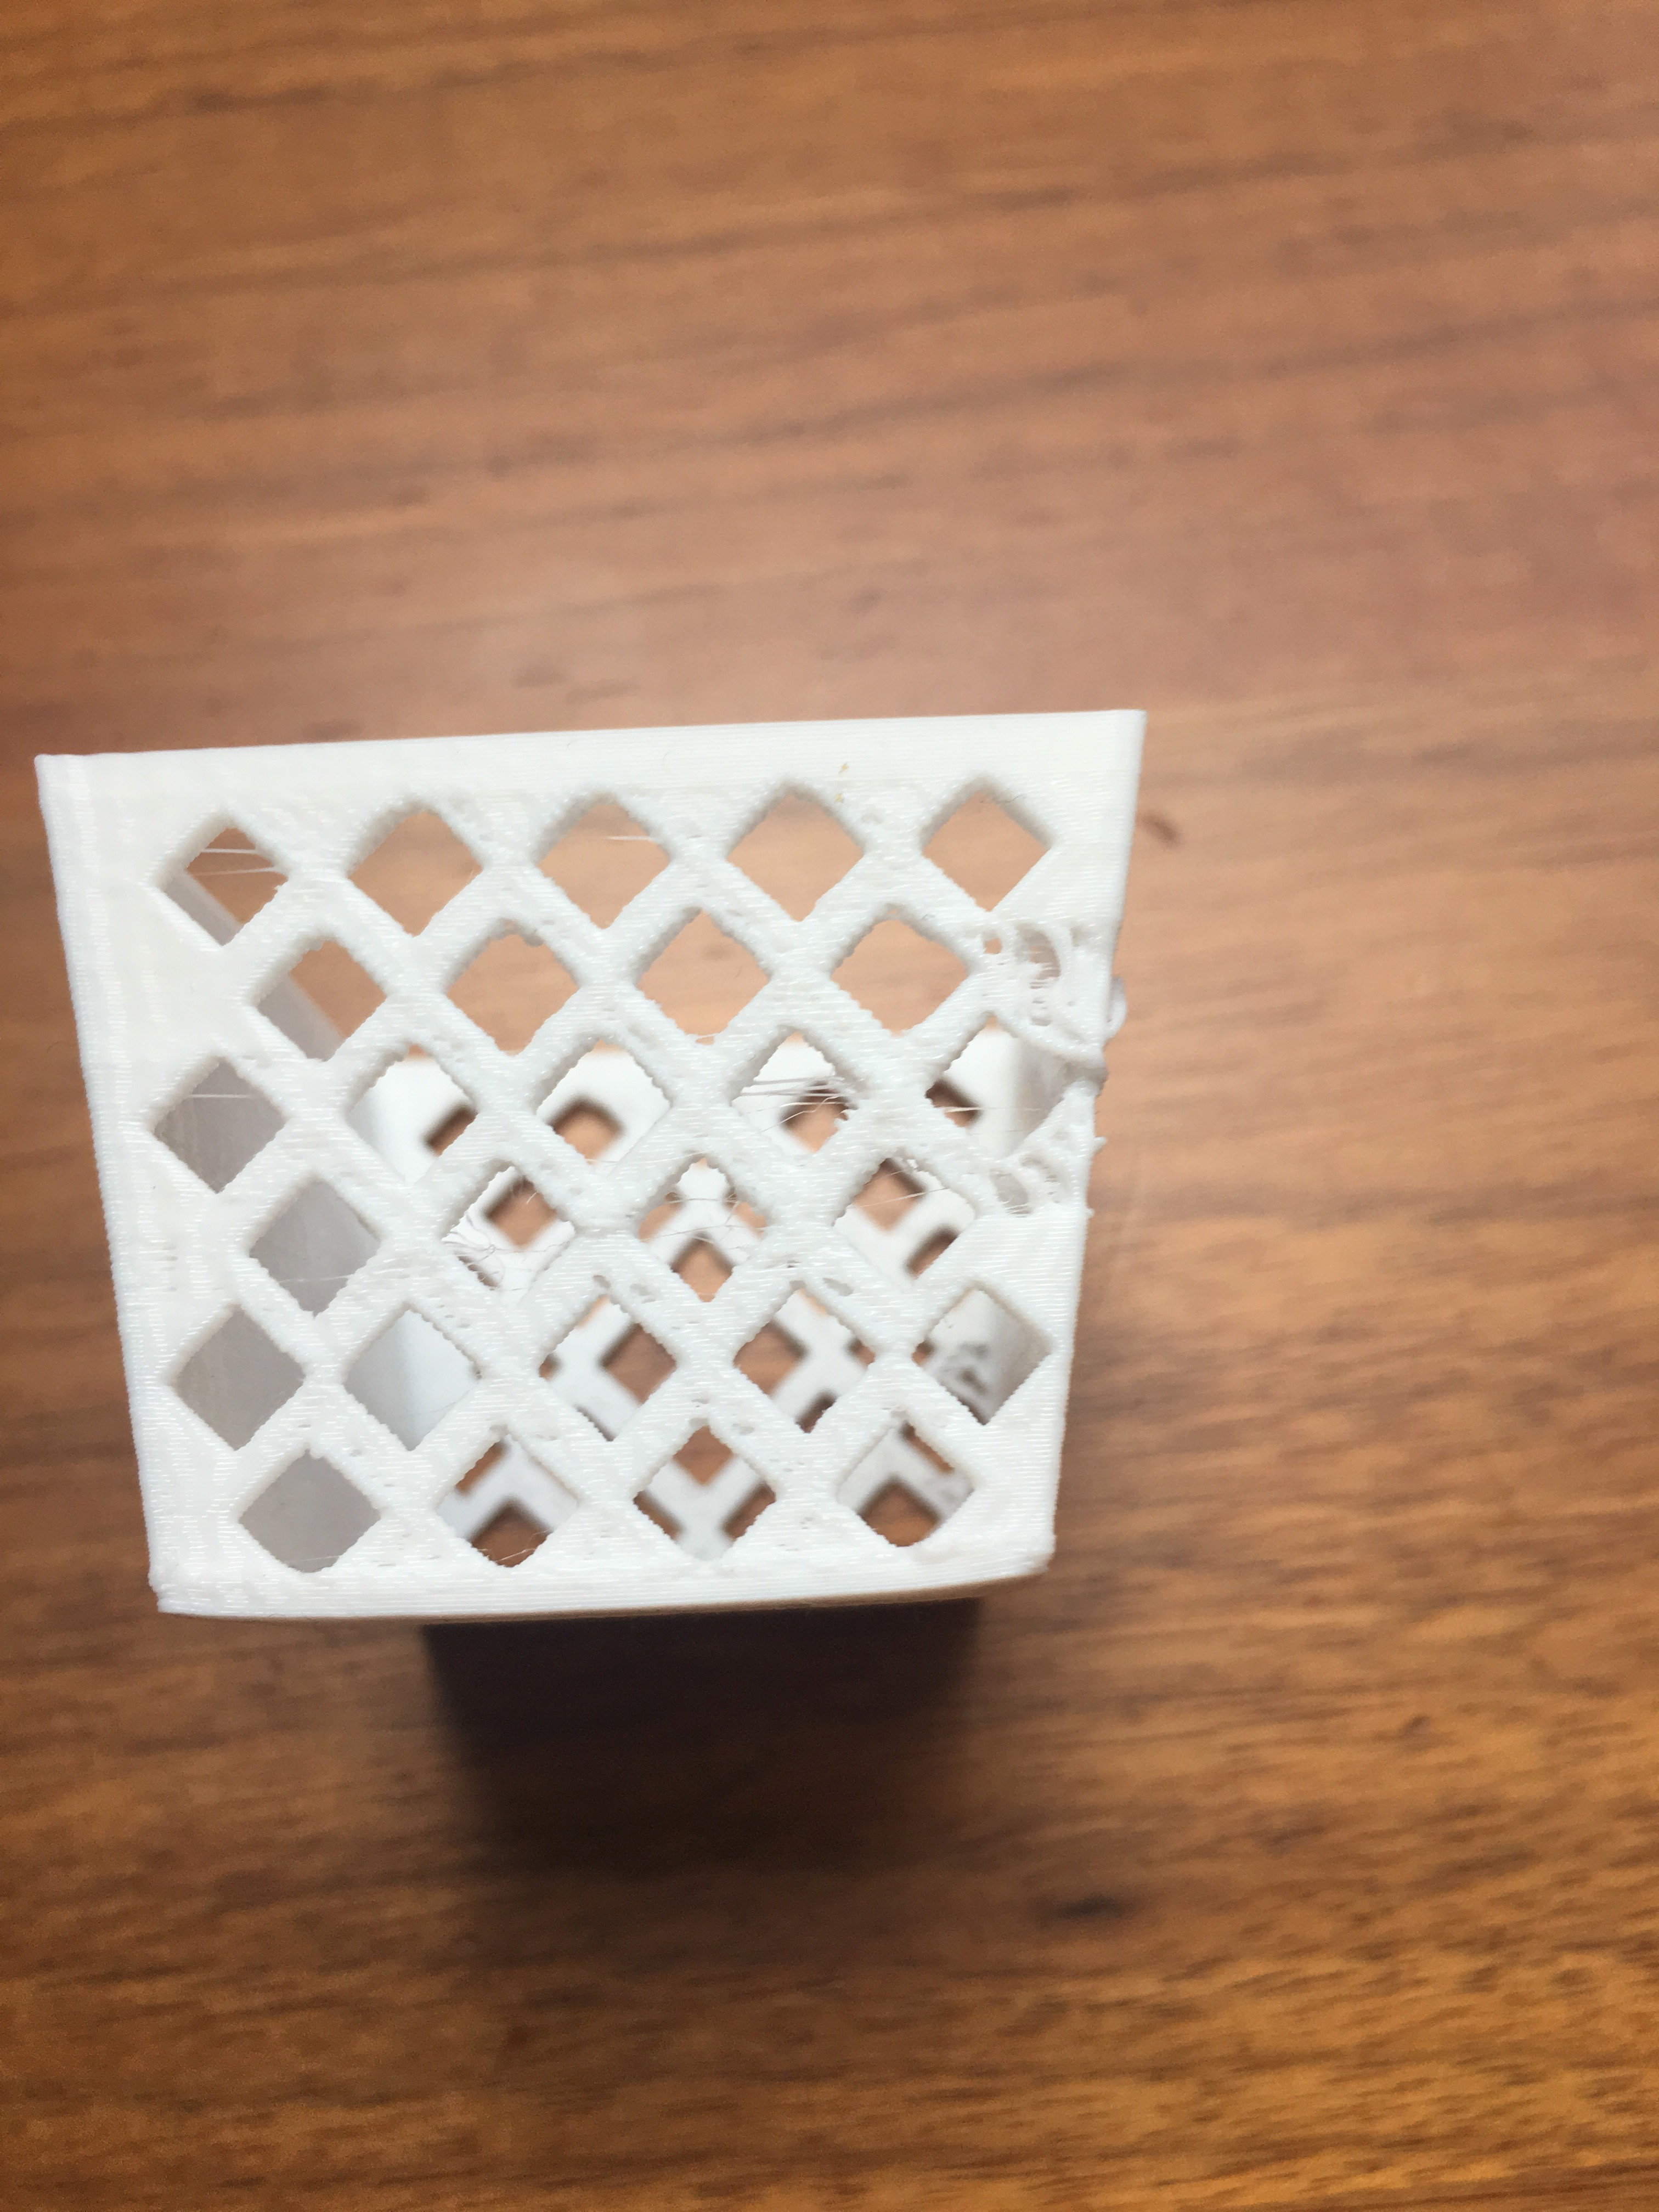3dpstringing: (706, 1049, 882, 1136), (152, 833, 308, 899), (575, 805, 688, 894), (159, 1068, 281, 1130), (427, 1221, 523, 1284), (927, 1078, 1009, 1141)
3dpunderextrusion: (953, 909, 1121, 1010), (981, 1162, 1082, 1221), (577, 1263, 669, 1317), (840, 791, 920, 843), (812, 1264, 885, 1308), (716, 1416, 775, 1444), (676, 1395, 730, 1418)
